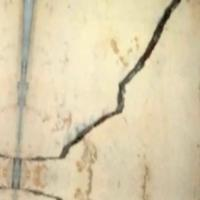crack: (30, 3, 181, 178)
